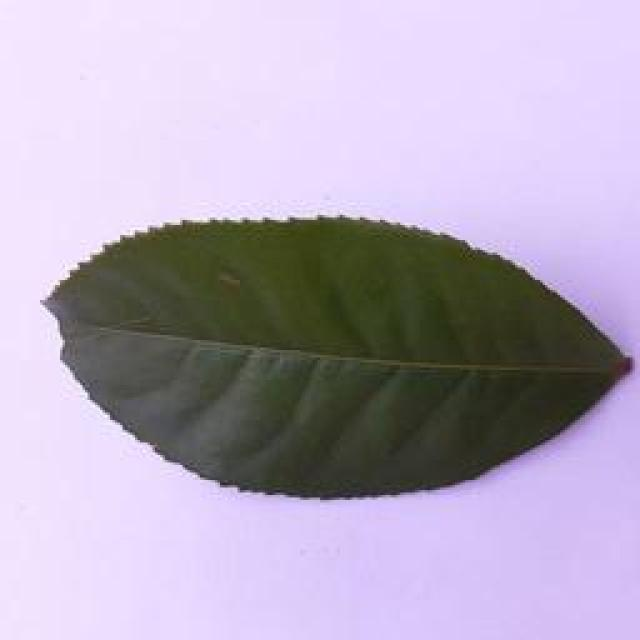Healthy: (41, 206, 630, 496)
